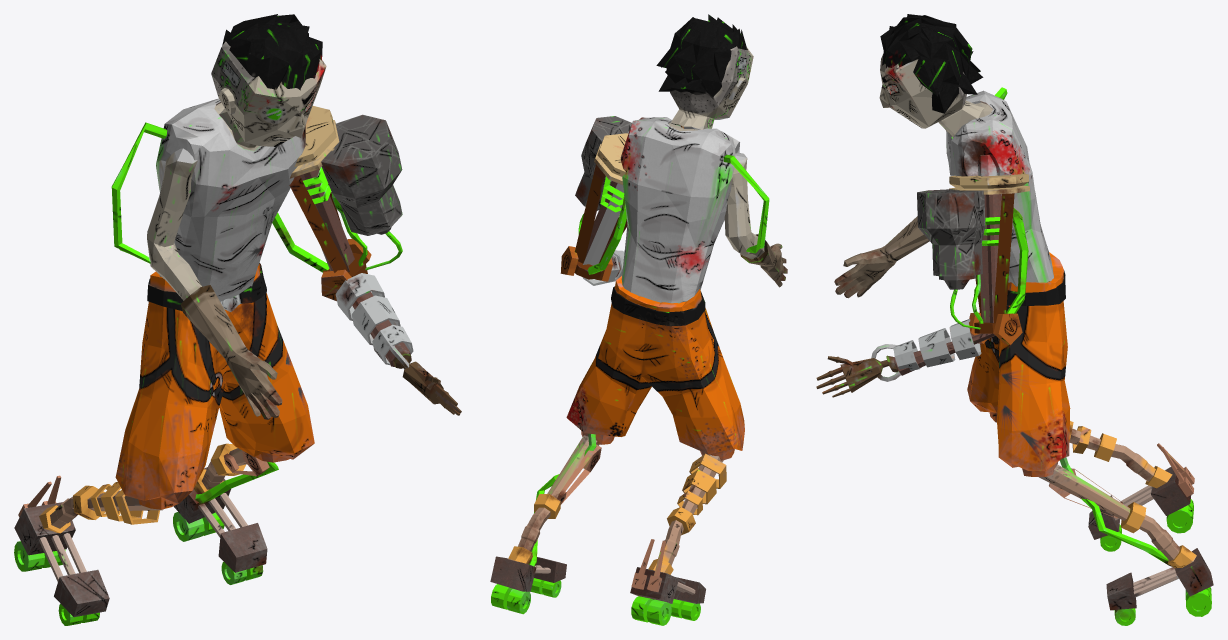
Rendered from CyborgFINALAnimation_000016.obj.
3 renders of one model, left to right at view 1: azimuth 30°, elevation 25°; view 2: azimuth 150°, elevation 25°; view 3: azimuth 270°, elevation 25°, orthographic. The views are drawn at different scales.
Visible parts, largest first — view 1: CyborgMesh_Cube.002; view 2: CyborgMesh_Cube.002; view 3: CyborgMesh_Cube.002.
Part boxes in pixels (box(x1,y1,x2,y2)): CyborgMesh_Cube.002: box(14, 14, 461, 625); CyborgMesh_Cube.002: box(490, 14, 787, 625); CyborgMesh_Cube.002: box(816, 14, 1213, 625).
Bounding box in the file's own units: 3.53 × 8.49 × 5.4.
